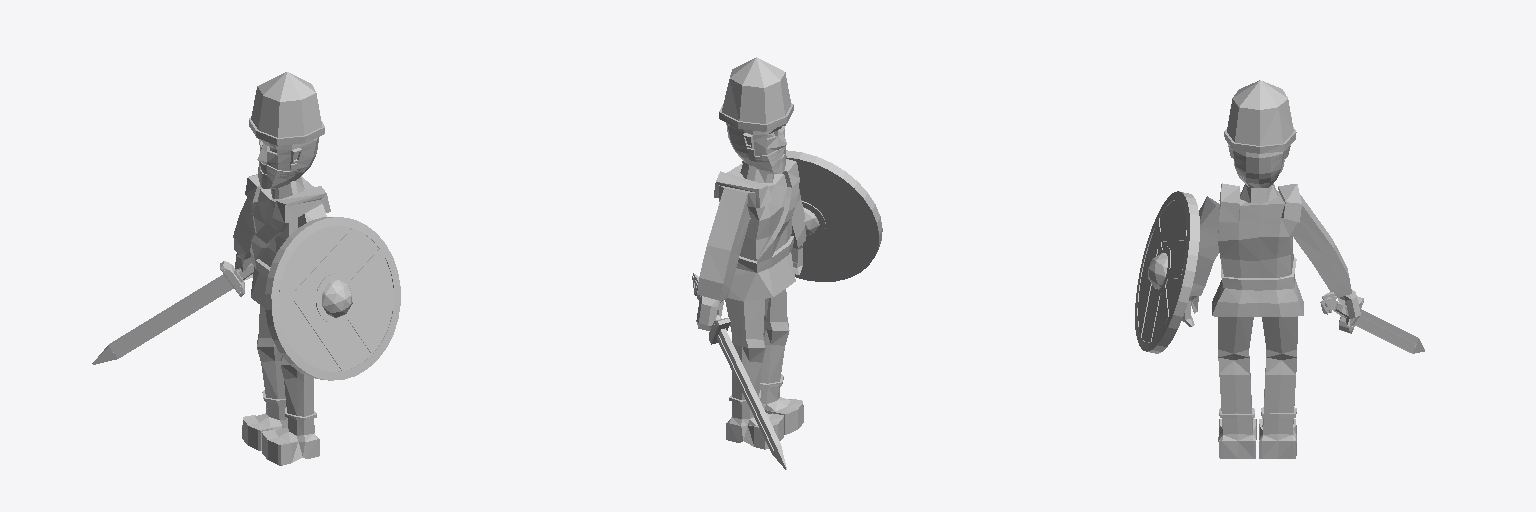
File: personajeBase.obj
The picture shows the model from 3 angles: view 1: azimuth 30°, elevation 25°; view 2: azimuth 150°, elevation 25°; view 3: azimuth 270°, elevation 25°; orthographic projection.
Parts seen in each view (by area): view 1: Icosphere.001, PersonajeGuia_Pierna_izq_Cube.003, Cube_Cube.003, Espada_1.001_Cube.002; view 2: PersonajeGuia_Pierna_izq_Cube.003, Icosphere.001, Cube_Cube.003, Espada_1.001_Cube.002; view 3: PersonajeGuia_Pierna_izq_Cube.003, Icosphere.001, Cube_Cube.003, Espada_1.001_Cube.002.
Boxes of the visible parts, box(x1,y1,x2,y2) form: Icosphere.001: box(265, 217, 400, 380); PersonajeGuia_Pierna_izq_Cube.003: box(233, 137, 330, 465); Cube_Cube.003: box(249, 72, 324, 145); Espada_1.001_Cube.002: box(92, 261, 253, 364); PersonajeGuia_Pierna_izq_Cube.003: box(696, 123, 805, 449); Icosphere.001: box(786, 150, 882, 281); Cube_Cube.003: box(719, 57, 793, 131); Espada_1.001_Cube.002: box(692, 273, 786, 469); PersonajeGuia_Pierna_izq_Cube.003: box(1182, 144, 1360, 458); Icosphere.001: box(1135, 191, 1199, 353); Cube_Cube.003: box(1224, 80, 1296, 153); Espada_1.001_Cube.002: box(1320, 292, 1424, 353).
Bounding box in the file's own units: 1.57 × 3.06 × 2.16.